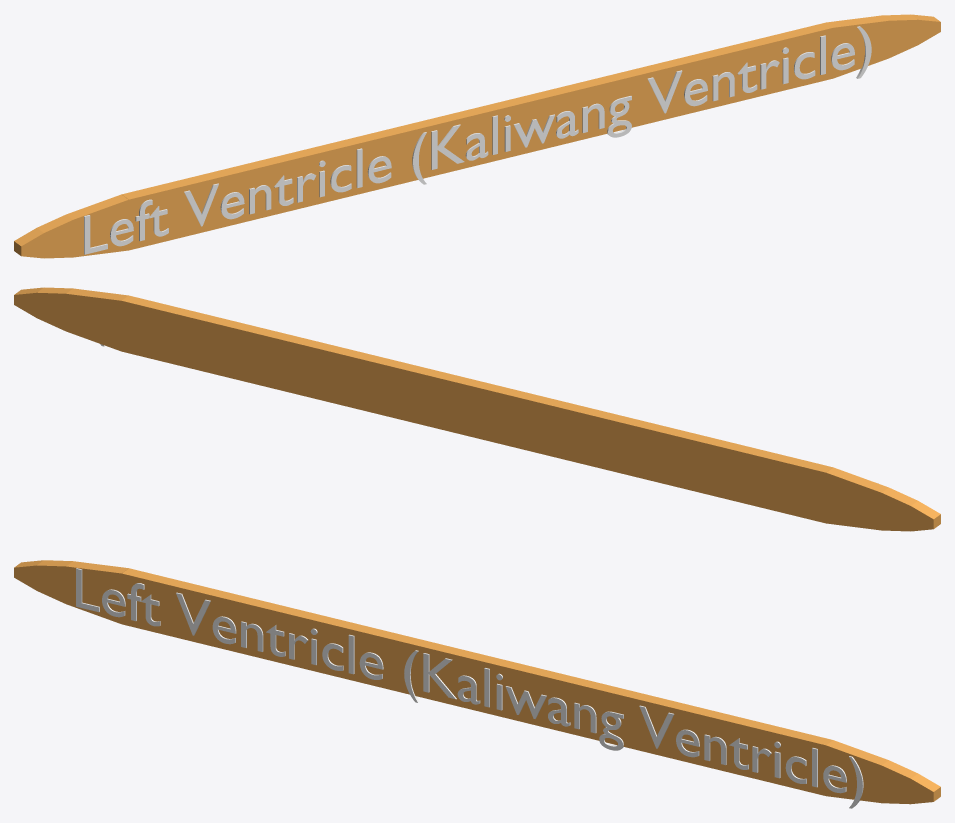
The model's file is txtLeftVentricle.fbx.
3 views of the same model, one above another, from view 1: azimuth 30°, elevation 25°; view 2: azimuth 150°, elevation 25°; view 3: azimuth 330°, elevation 25° (orthographic).
Visible parts, largest first — view 1: TagContainer.105, Text.107; view 2: TagContainer.105; view 3: TagContainer.105, Text.107.
Boxes of the visible parts, x1,y1,x2,y2 form: TagContainer.105: (14,14,940,258); Text.107: (84,26,871,254); TagContainer.105: (14,287,940,531); TagContainer.105: (14,560,940,804); Text.107: (76,568,863,808).
Size of the model in its own units: 782 by 45.81 by 11.84.
